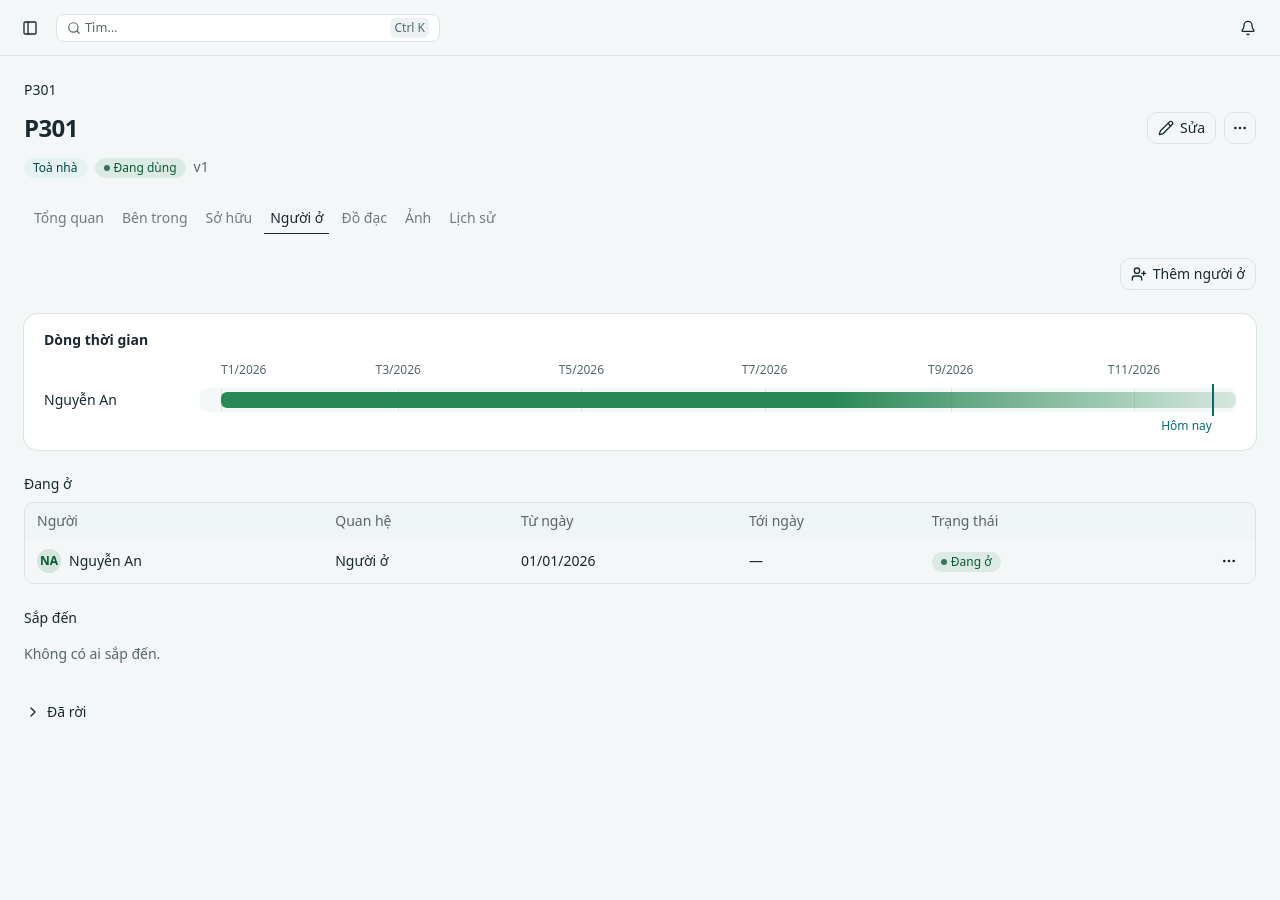
Scenario: editDoesNotWarnAboutItself
The image size is (1280, 900).
Click the button named "Thao tác với Nguyễn An" at (1229, 561), box top-left (1215, 547), bottom-right (1243, 575)
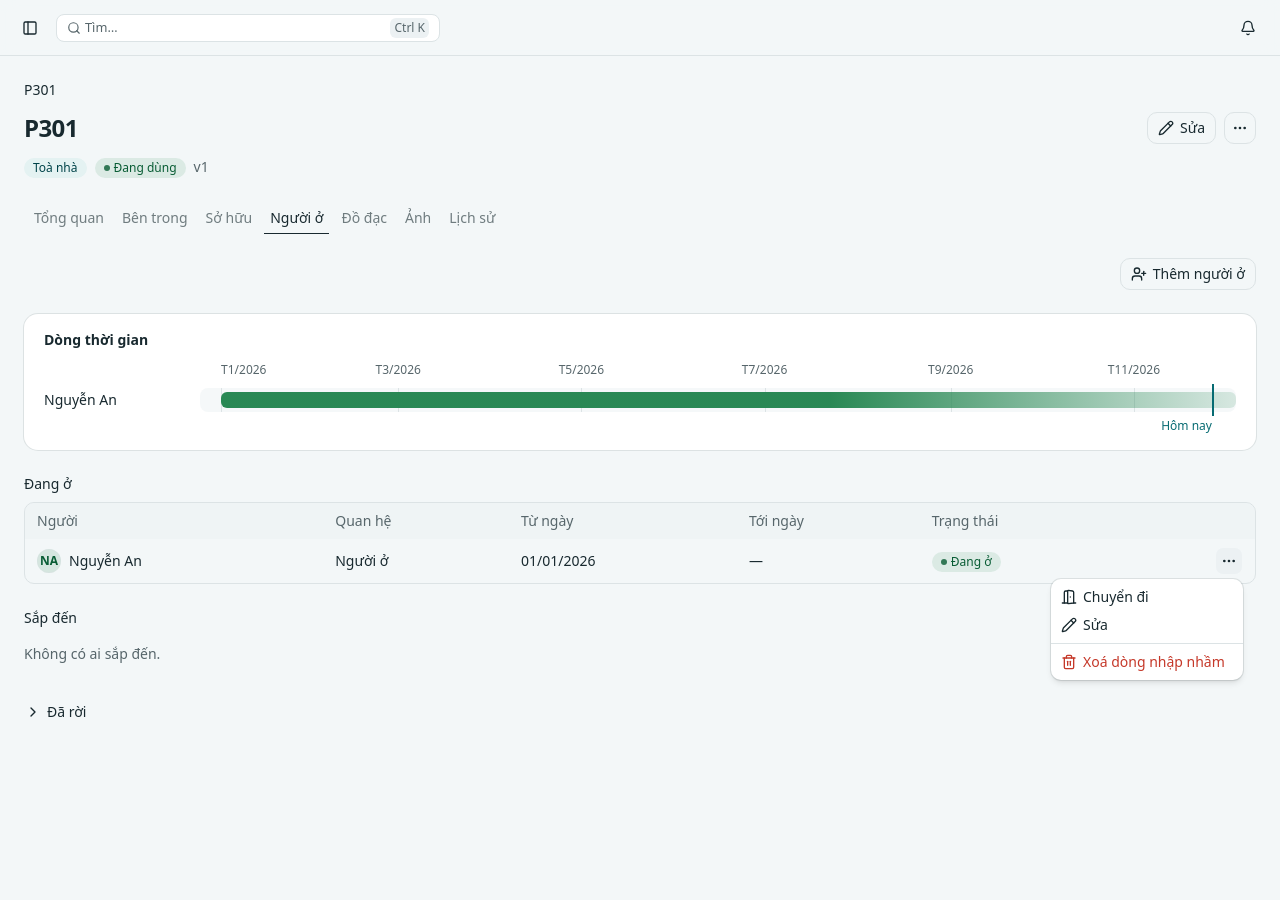
Click the menu item "Sửa" at (1084, 624), box top-left (1061, 615), bottom-right (1108, 634)
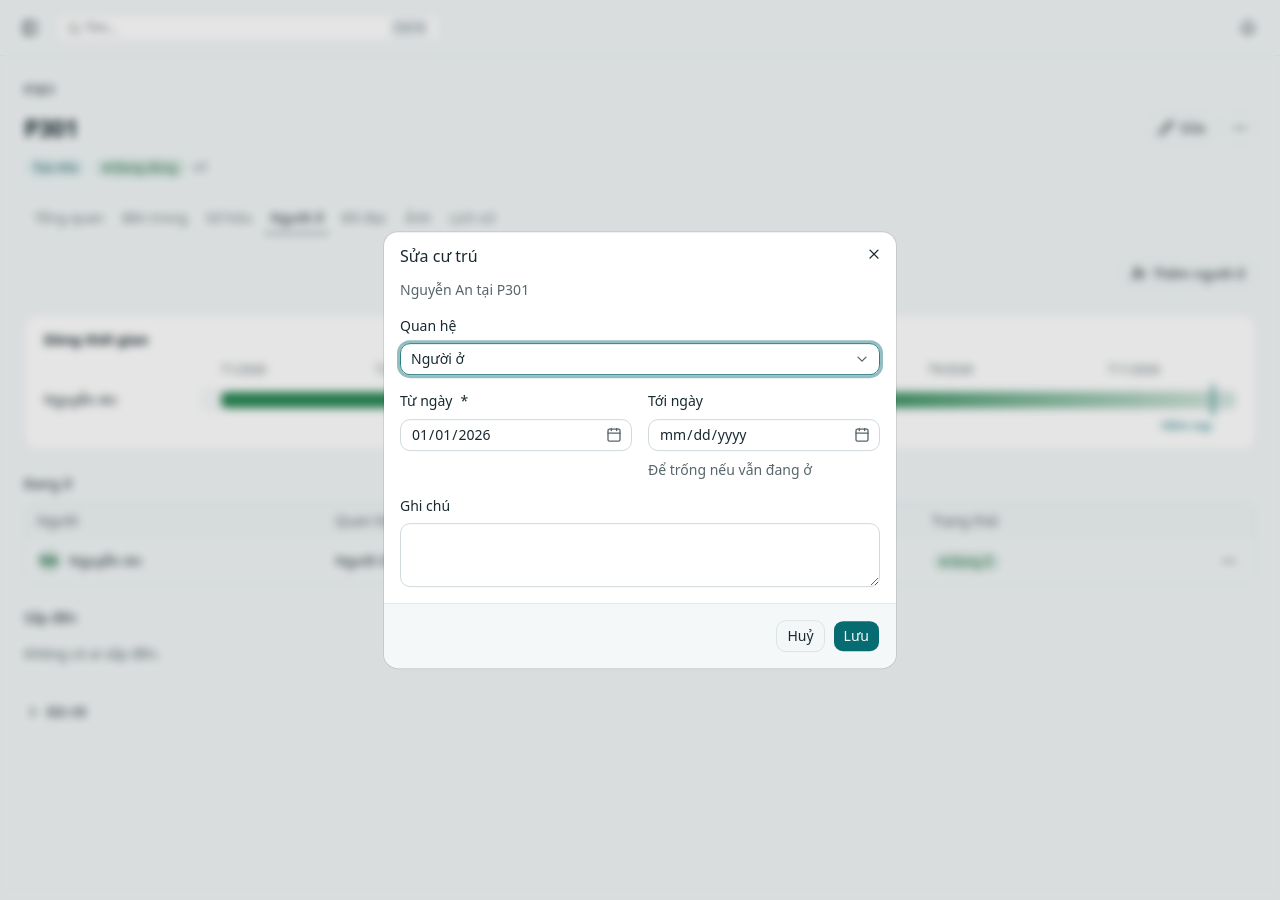
Expected: the dialog "Sửa cư trú" is shown, top-left (384, 232), bottom-right (896, 668)
